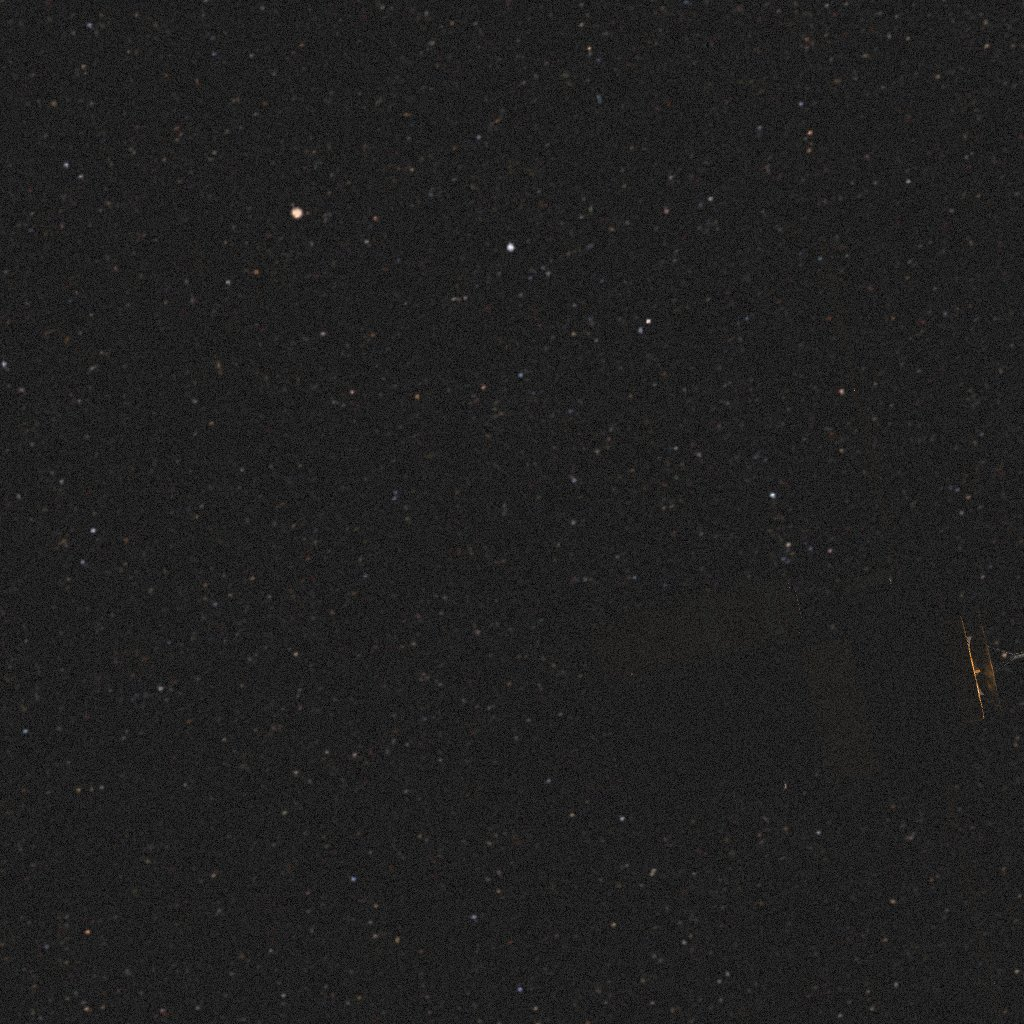soho: (589, 241, 1024, 1024)
